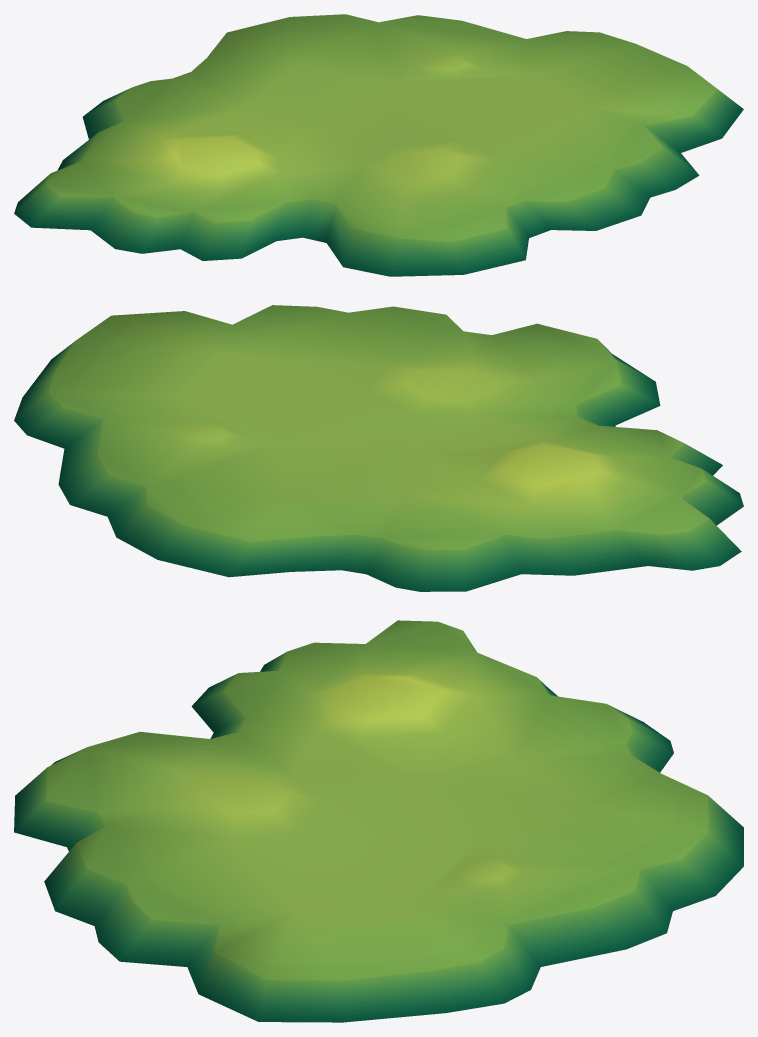
The model's file is Ground 01.FBX.
3 views of the same model, one above another, from view 1: azimuth 30°, elevation 25°; view 2: azimuth 150°, elevation 25°; view 3: azimuth 270°, elevation 25° (orthographic). The views are drawn at different scales.
Visible parts, largest first — view 1: Ground 01; view 2: Ground 01; view 3: Ground 01.
Boxes of the visible parts, x1,y1,x2,y2 form: Ground 01: (14, 14, 743, 276); Ground 01: (14, 305, 743, 591); Ground 01: (14, 620, 743, 1022).
Bounding box in the file's own units: 2226 × 111 × 1755.
